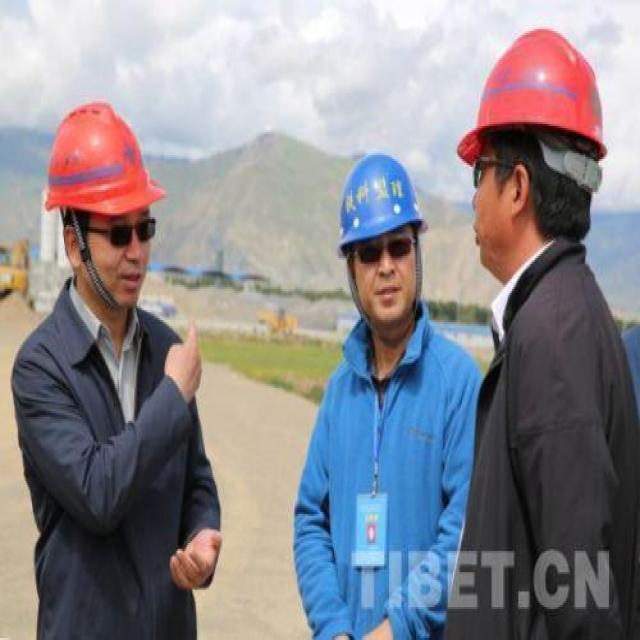hat: (469, 8, 611, 279), (47, 90, 159, 311), (333, 146, 426, 340)
